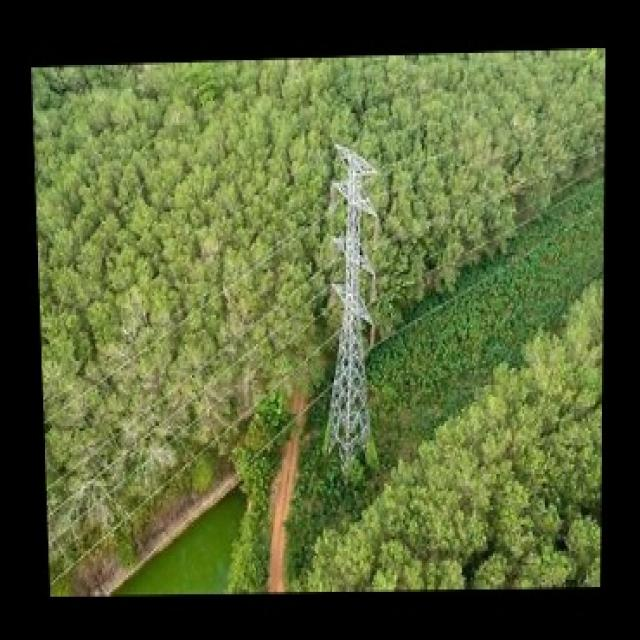utility poles: (322, 137, 386, 475)
